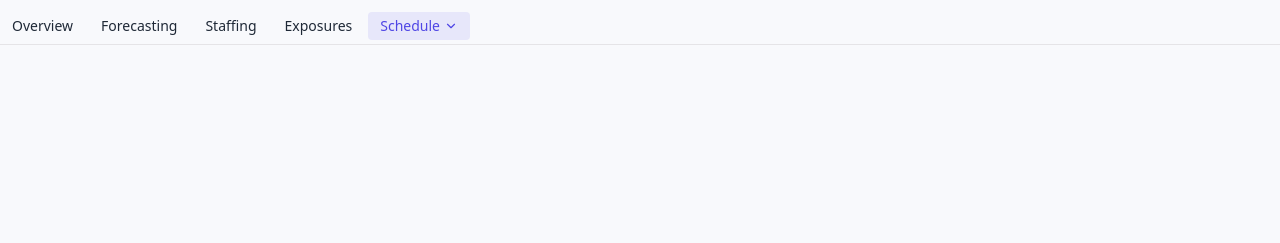
Test: ProjectWorkspaceNav › shows Manage Baselines in the schedule dropdown
Click the button "Schedule" at (419, 26), box [368, 12, 470, 40]
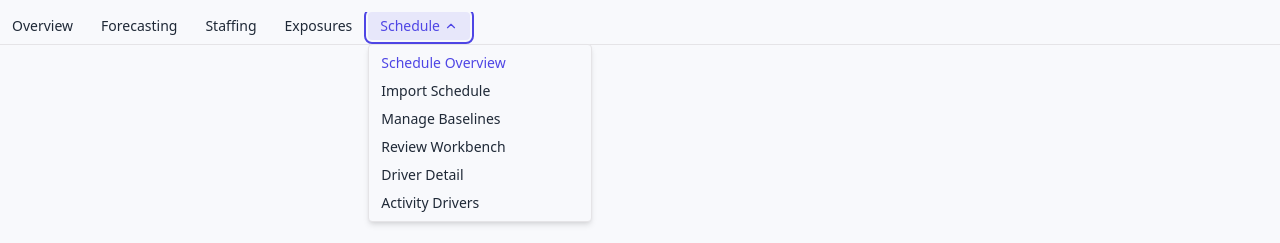
Now the menu item "Manage Baselines" is shown, box [381, 109, 501, 128]
